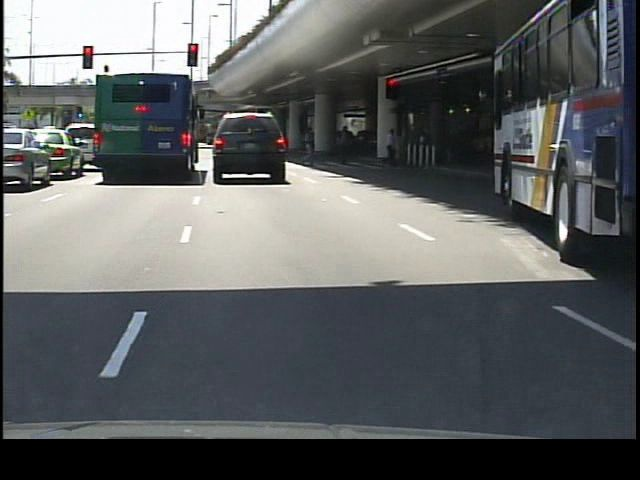person: (331, 122, 353, 171), (296, 124, 317, 172), (378, 129, 398, 170)
